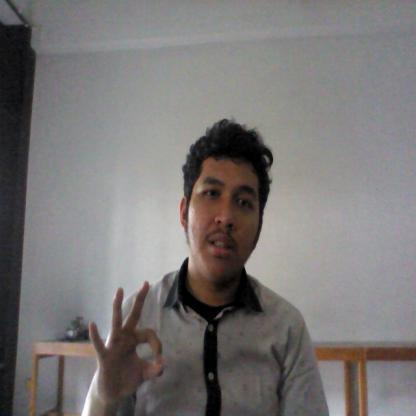O: (76, 273, 175, 402)
